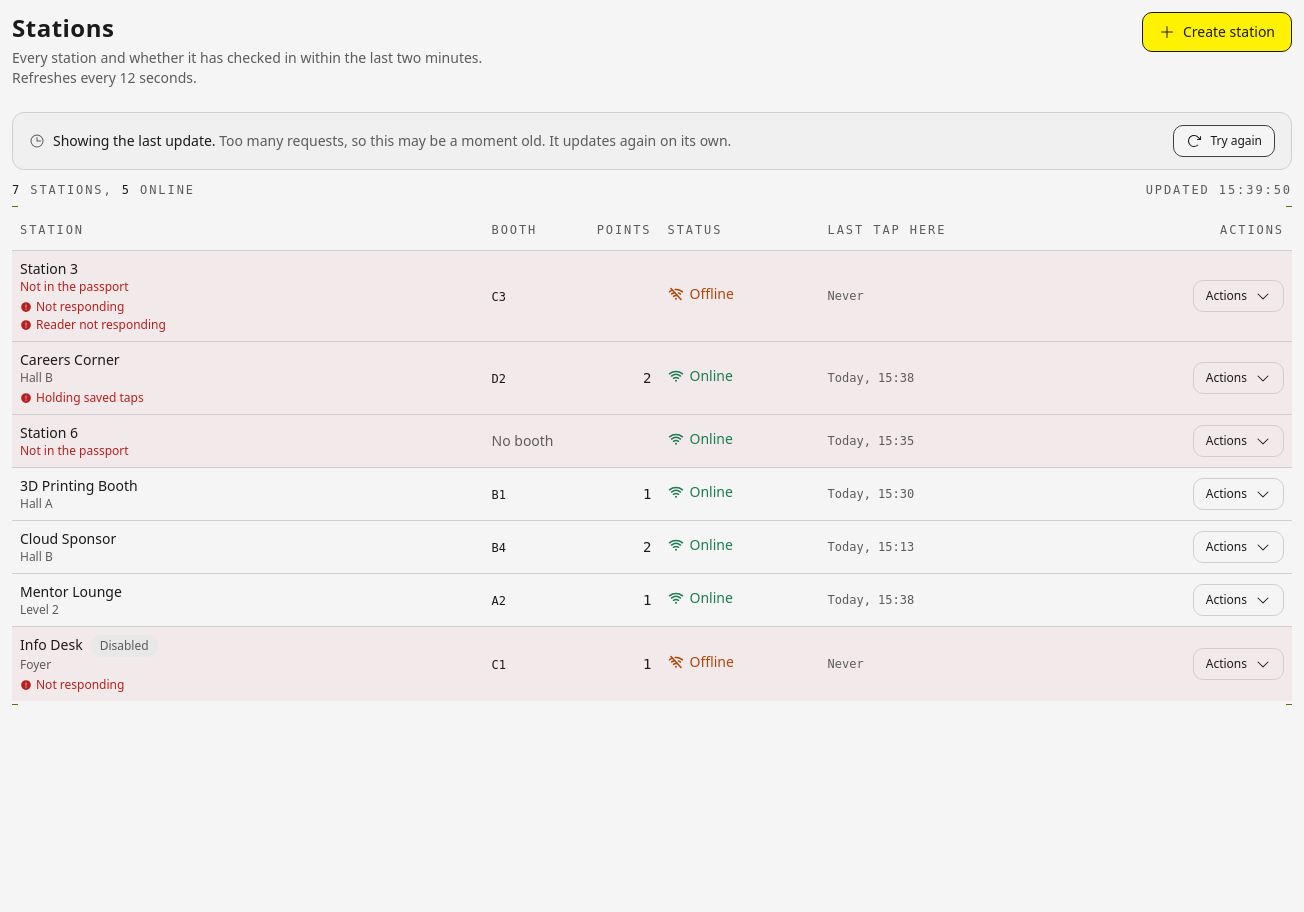
Test: StationsScreen › still offers a retry from the quiet note
The image size is (1304, 912).
Check: the text "Showing the last update." is shown, box [53,131,216,150]
Click the button "Try again".
click(1224, 141)  # box [1173,125,1275,157]
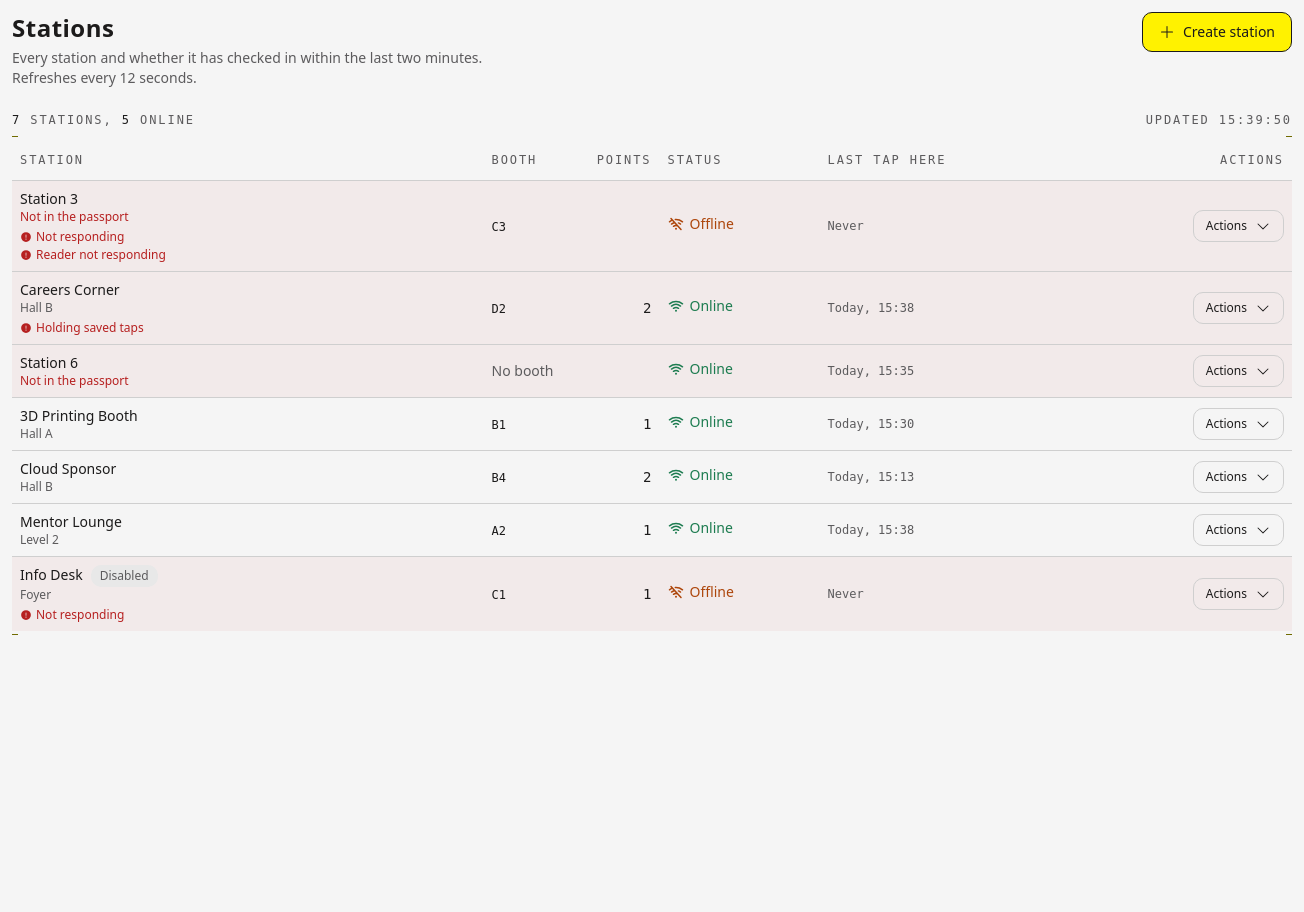
Check: the text "Online" in the row of "Careers Corner" is shown, box [690,296,733,315]
Check: the text "Showing the last update." is gone
